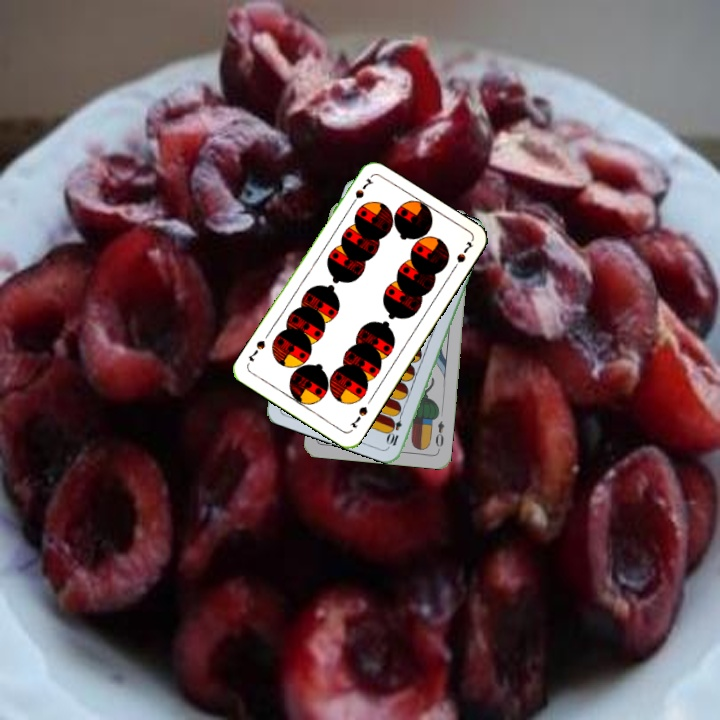E10: (384, 408, 405, 448)
EO: (431, 417, 447, 453)
S7: (346, 174, 376, 210), (345, 402, 370, 431)
